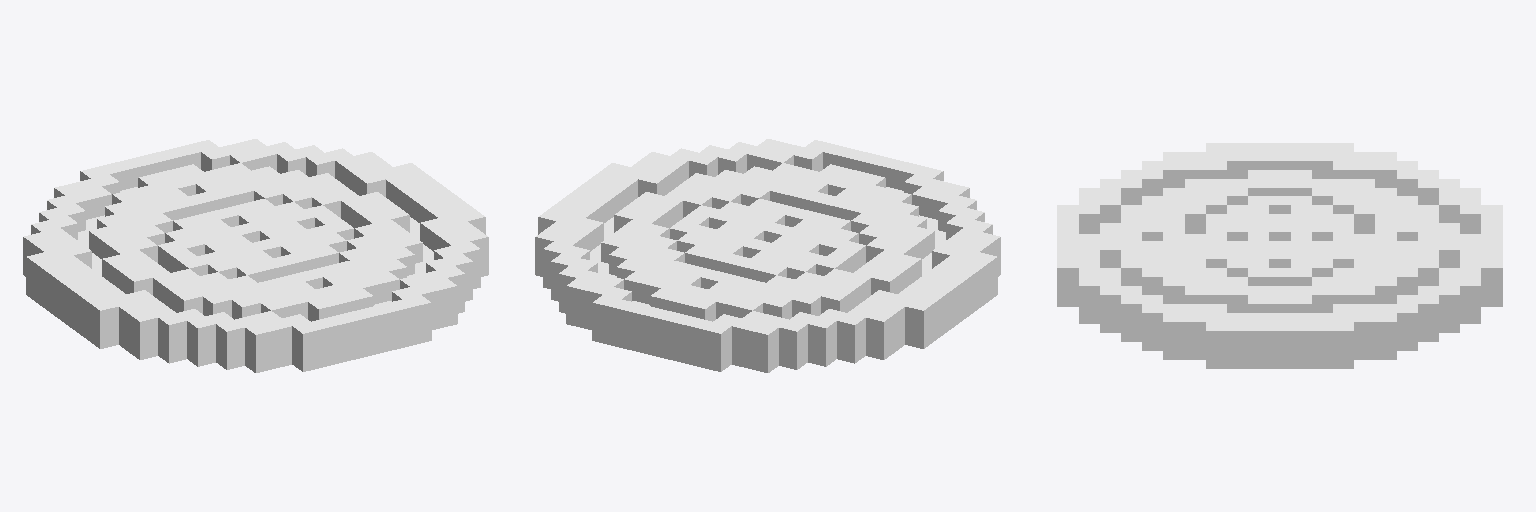
File: MelochevkaCity-16.obj
3 views of the same model, side by side, from view 1: azimuth 30°, elevation 25°; view 2: azimuth 150°, elevation 25°; view 3: azimuth 270°, elevation 25° (orthographic).
Parts seen in each view (by area): view 1: object 1; view 2: object 1; view 3: object 1.
Boxes of the visible parts, <box> form: object 1: <box>23,139,488,372</box>; object 1: <box>535,139,1000,372</box>; object 1: <box>1057,143,1502,368</box>.
Bounding box in the file's own units: 2.1 × 0.2 × 2.1.